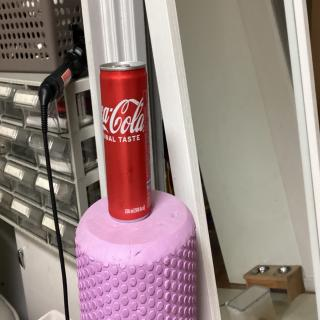cocacola: (99, 56, 157, 225)
